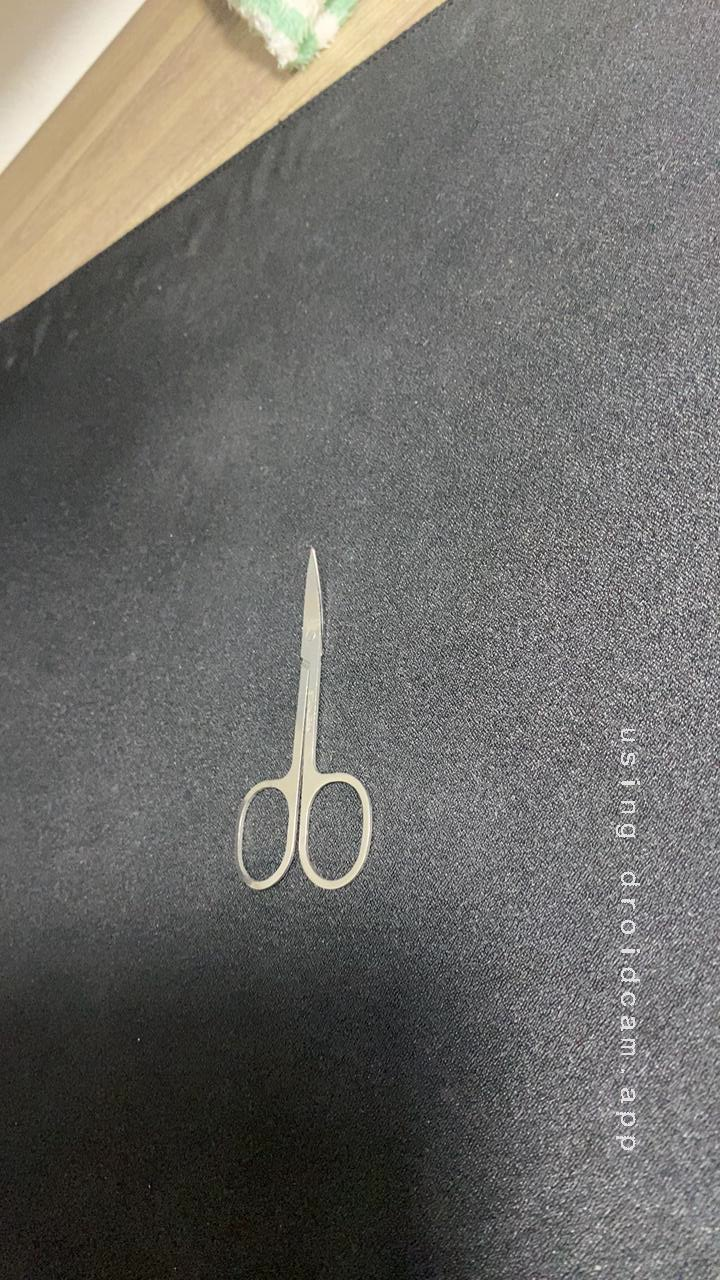scissor: (204, 539, 400, 906)
